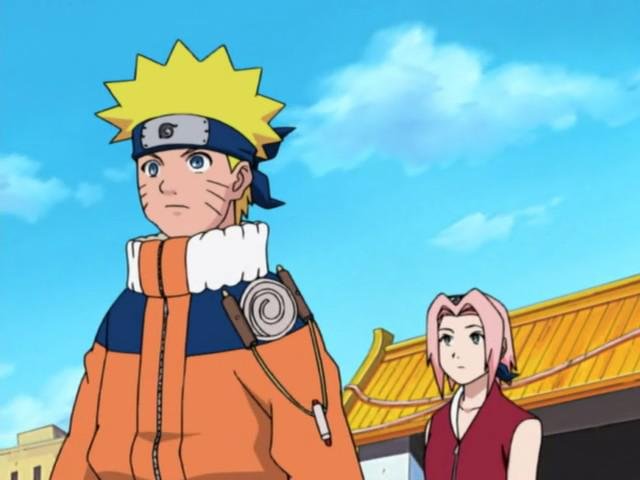naruto: (128, 107, 258, 236)
sakura: (424, 287, 514, 387)
